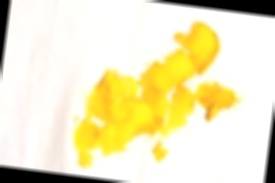mustard: (72, 52, 187, 171), (167, 75, 242, 139), (161, 21, 227, 89)
